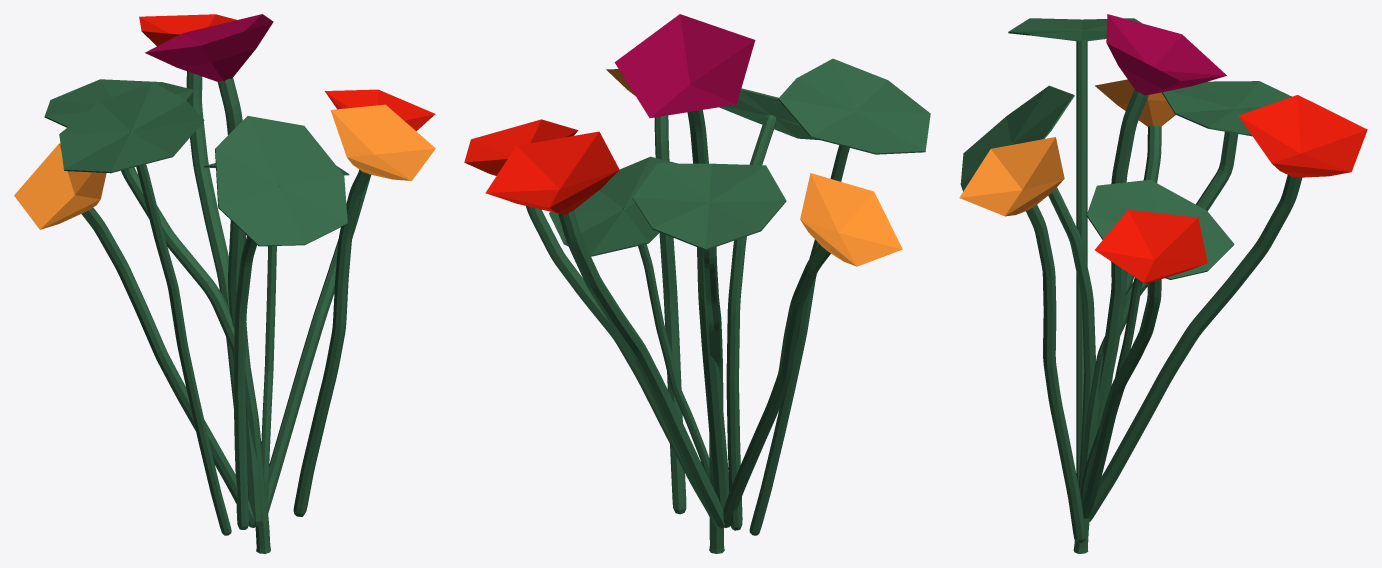
File: mod_vg_capucine.fbx
3 views of the same model, side by side, from view 1: azimuth 30°, elevation 25°; view 2: azimuth 150°, elevation 25°; view 3: azimuth 270°, elevation 25° (orthographic). The views are drawn at different scales.
Parts seen in each view (by area): view 1: tige5, fleur3, fleur2, fleur4, fleur5, fleur1; view 2: tige5, fleur2, fleur1, fleur4, fleur5; view 3: tige5, fleur1, fleur5, fleur2, fleur3, fleur4.
Part boxes in pixels (box(x1,y1,x2,y2)): tige5: box(44, 71, 370, 553); fleur3: box(330, 104, 435, 180); fleur2: box(145, 14, 273, 81); fleur4: box(14, 143, 106, 229); fleur5: box(325, 89, 435, 130); fleur1: box(139, 14, 236, 72); tige5: box(526, 58, 930, 553); fleur2: box(614, 14, 755, 117); fleur1: box(485, 131, 619, 214); fleur4: box(800, 173, 902, 266); fleur5: box(464, 119, 578, 175); tige5: box(960, 18, 1302, 553); fleur1: box(1238, 95, 1367, 177); fleur5: box(1094, 210, 1207, 283); fleur2: box(1106, 14, 1226, 95); fleur3: box(959, 137, 1064, 216); fleur4: box(1095, 79, 1175, 126).
Bounding box in the file's own units: 106 × 129 × 91.78.
